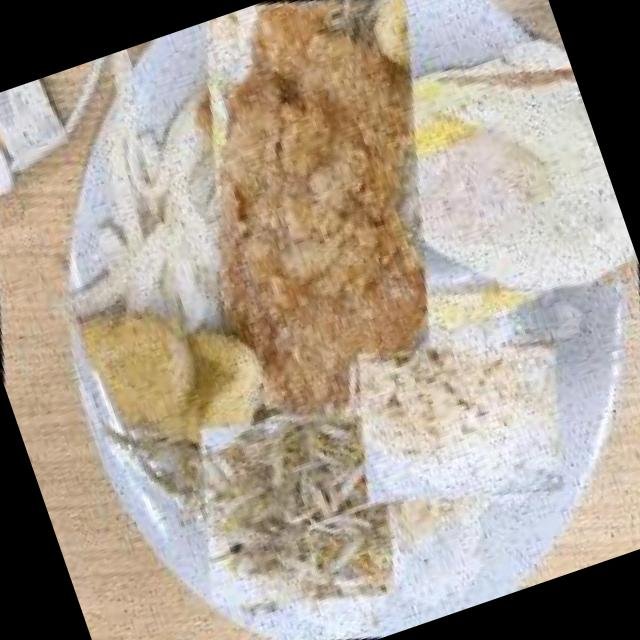chicken_nuggets: (40, 259, 303, 506)
fried_chicken: (107, 0, 531, 461)
fried_eggs: (318, 5, 640, 373)
mung_bean_sprouts: (155, 370, 438, 640)
rice: (326, 285, 597, 556)
